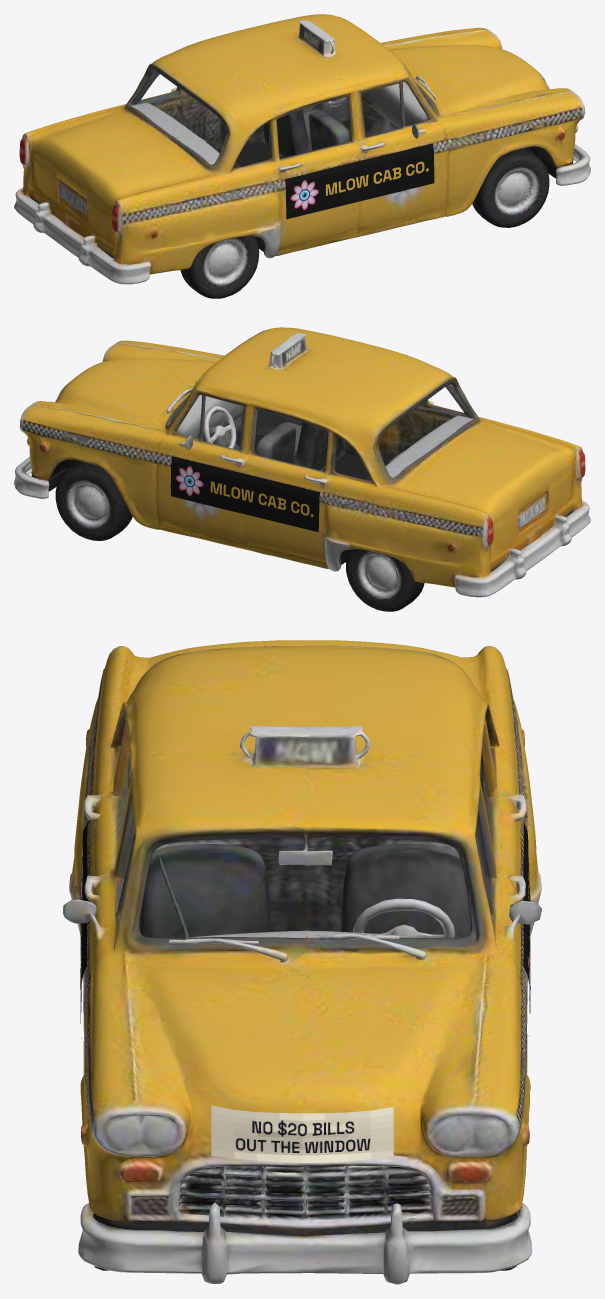
File: nyb_afterhours_cab.glb
3 views of the same model, one above another, from view 1: azimuth 30°, elevation 25°; view 2: azimuth 150°, elevation 25°; view 3: azimuth 270°, elevation 25° (orthographic). The views are drawn at different scales.
Parts seen in each view (by area): view 1: tripo_node_a5359d35-3828-4b4f-bea5-e029b16950e6, stk_lbl_bffaca502f.png; view 2: tripo_node_a5359d35-3828-4b4f-bea5-e029b16950e6, stk_lbl_bffaca502f.png.001; view 3: tripo_node_a5359d35-3828-4b4f-bea5-e029b16950e6, stk_lbl_e7b4556be2.png, stk_lbl_bffaca502f.png.001, stk_lbl_bffaca502f.png.
Part boxes in pixels (x1,y1,x2,y2): tripo_node_a5359d35-3828-4b4f-bea5-e029b16950e6: (14,14,590,298); stk_lbl_bffaca502f.png: (284,143,434,219); tripo_node_a5359d35-3828-4b4f-bea5-e029b16950e6: (14,327,590,611); stk_lbl_bffaca502f.png.001: (170,456,320,532); tripo_node_a5359d35-3828-4b4f-bea5-e029b16950e6: (63,640,541,1284); stk_lbl_e7b4556be2.png: (211,1105,393,1162); stk_lbl_bffaca502f.png.001: (523,822,530,1035); stk_lbl_bffaca502f.png: (80,822,87,1038).
Size of the model in its own units: 1 by 0.3784 by 0.4208.
Materials: 4 (4 with a texture image).
